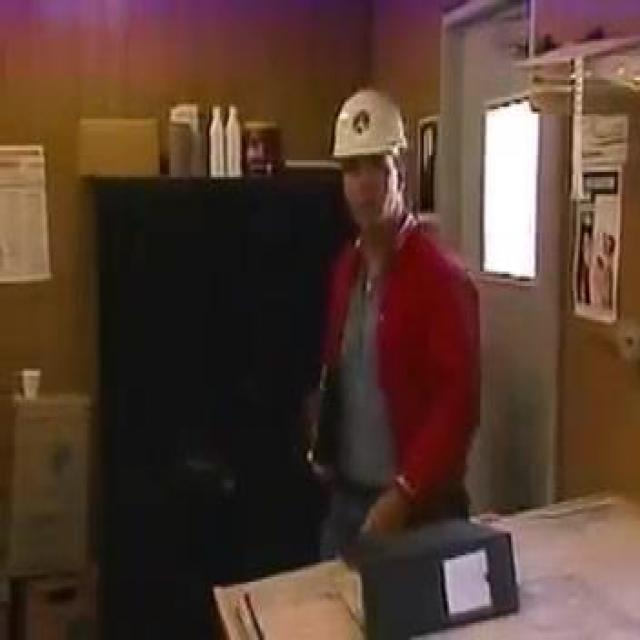Reflective-Jacket: (293, 208, 502, 528)
Safety-Helmet: (316, 73, 422, 189)
